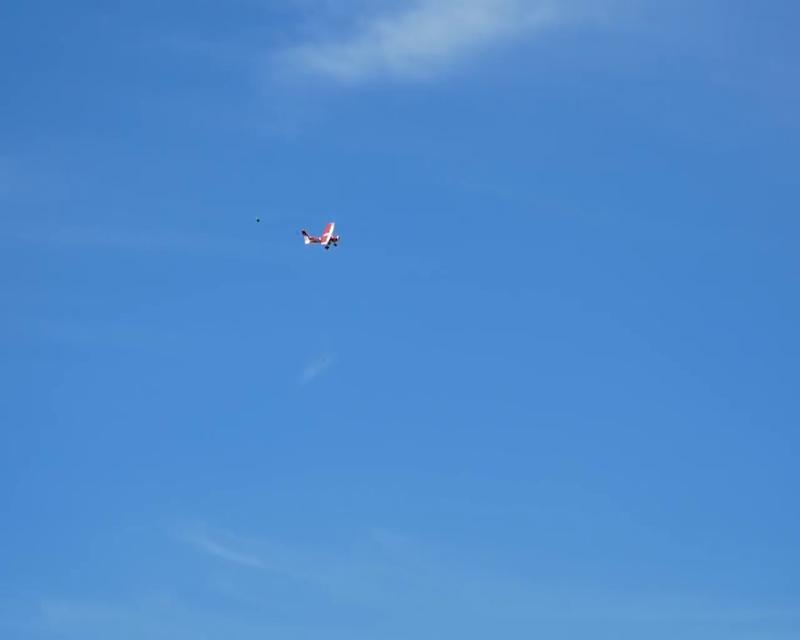UAV: (300, 222, 341, 250)
